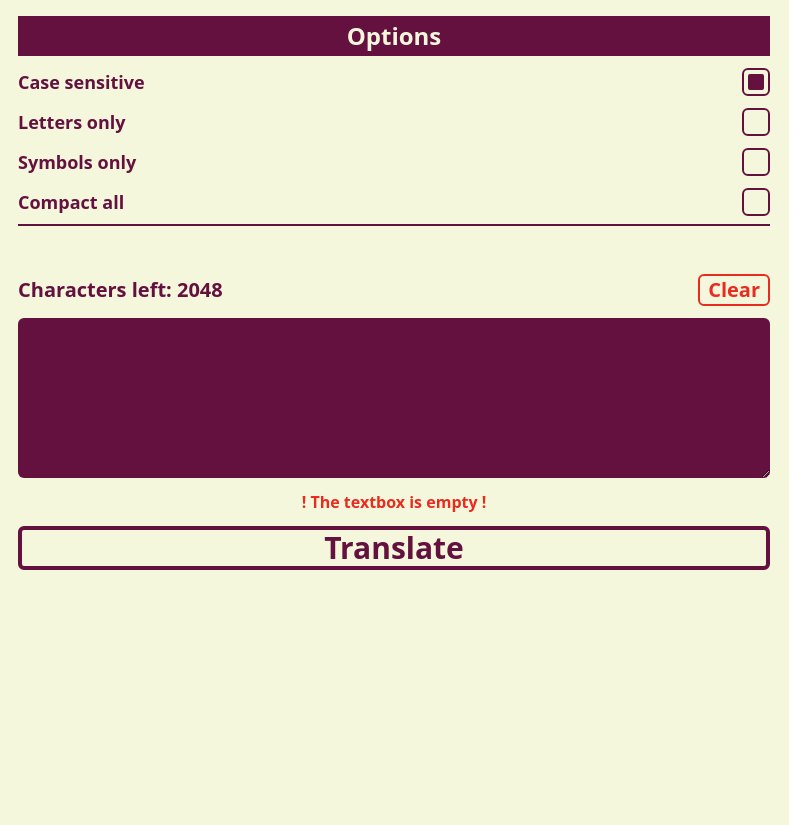
Scenario: App › should calculate the number of non-words symbols when the symbolsOnly is checked
Click the checkbox named "Symbols only" in the row of "Symbols only".
click(756, 162)  # box x1=742 y1=148 x2=770 y2=176
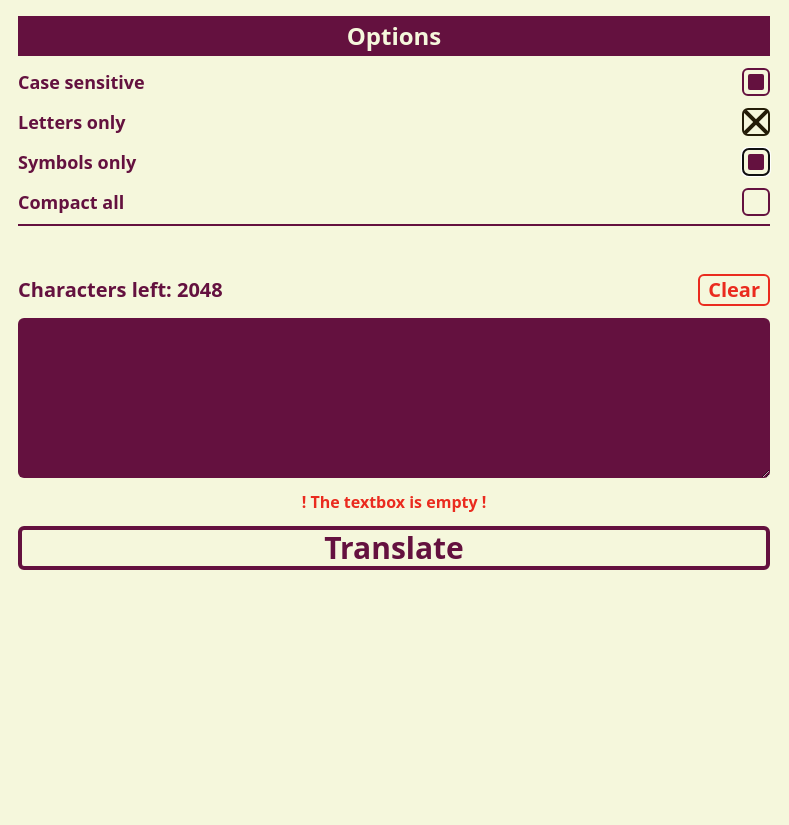
Type "H! awg @ test.. Hello, Tom?!" into the text box.
click(394, 398); type("H! awg @ test.. Hello, Tom?!")  # box x1=18 y1=318 x2=770 y2=478
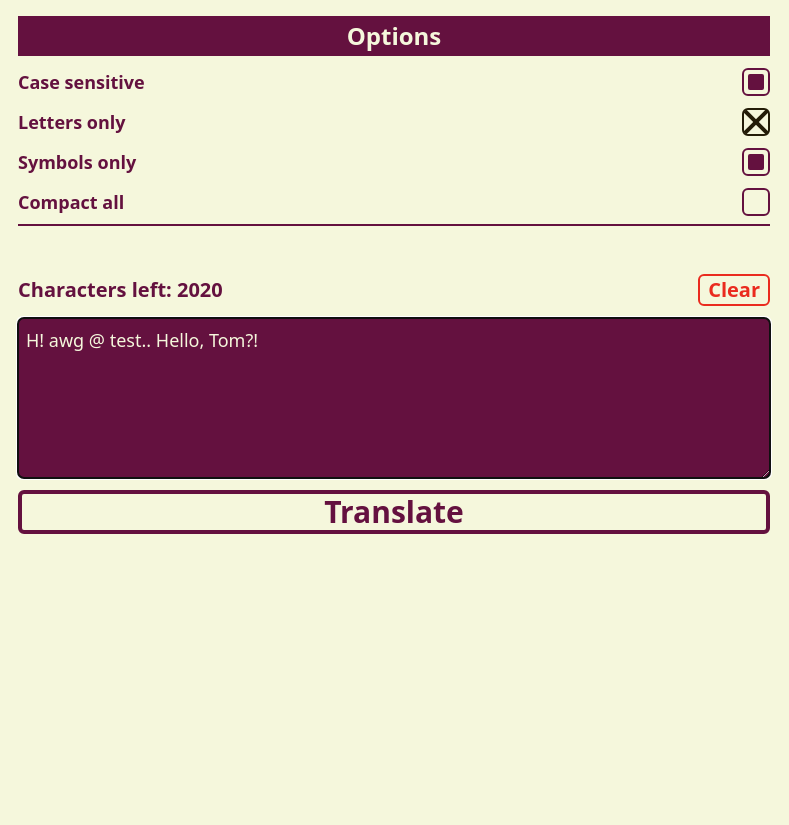
Click the button "Translate".
click(394, 512)  # box x1=18 y1=490 x2=770 y2=534
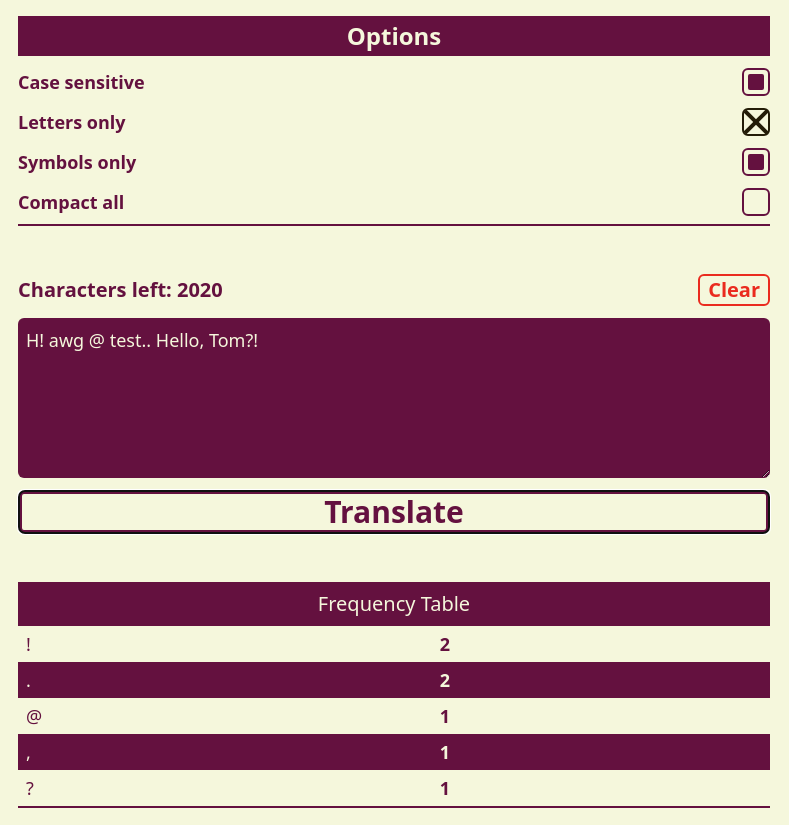
Check: the number of rows is 5, box x1=18 y1=626 x2=770 y2=662; x1=18 y1=662 x2=770 y2=698; x1=18 y1=698 x2=770 y2=734; x1=18 y1=734 x2=770 y2=770; x1=18 y1=770 x2=770 y2=807
Check: the row "! 2" is shown, box x1=18 y1=626 x2=770 y2=662
Check: the row "@ 1" is shown, box x1=18 y1=698 x2=770 y2=734
